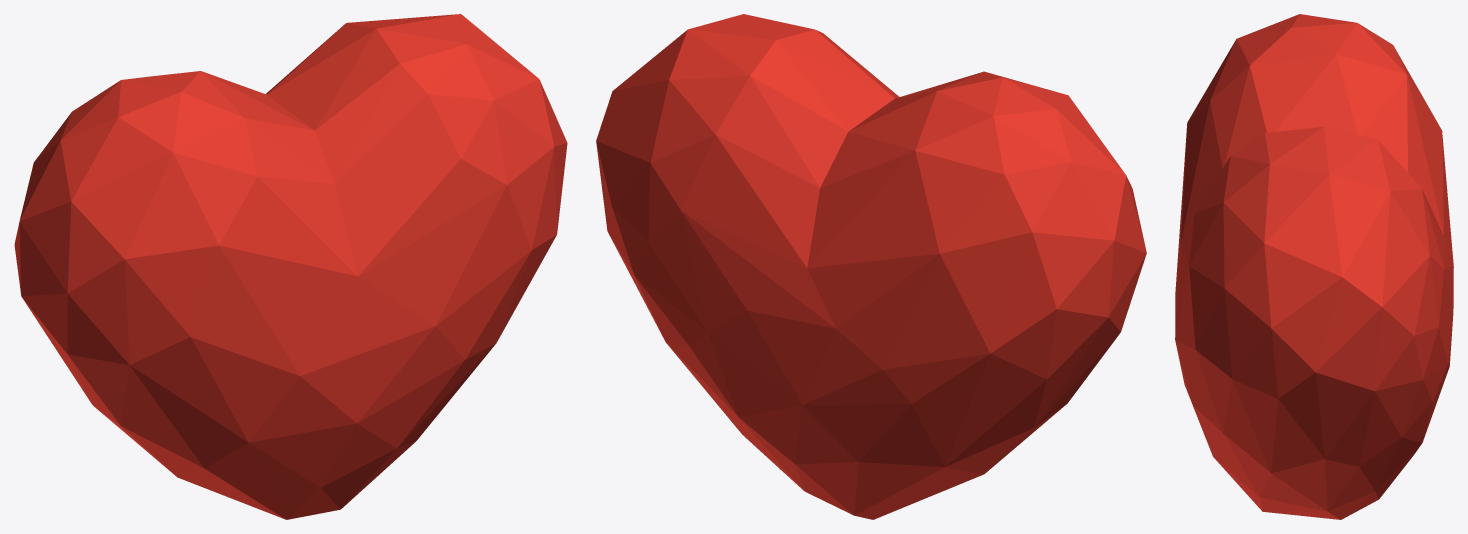
Rendered from heart.gltf.
3 views of the same model, side by side, from view 1: azimuth 30°, elevation 25°; view 2: azimuth 150°, elevation 25°; view 3: azimuth 270°, elevation 25° (orthographic). The views are drawn at different scales.
Parts seen in each view (by area): view 1: Love; view 2: Love; view 3: Love.
Boxes of the visible parts, left/top/right/bottom form: Love: left=14, top=14, right=567, bottom=519; Love: left=596, top=14, right=1146, bottom=519; Love: left=1175, top=14, right=1453, bottom=519.
Size of the model in its own units: 1.85 by 1.54 by 0.9095.
